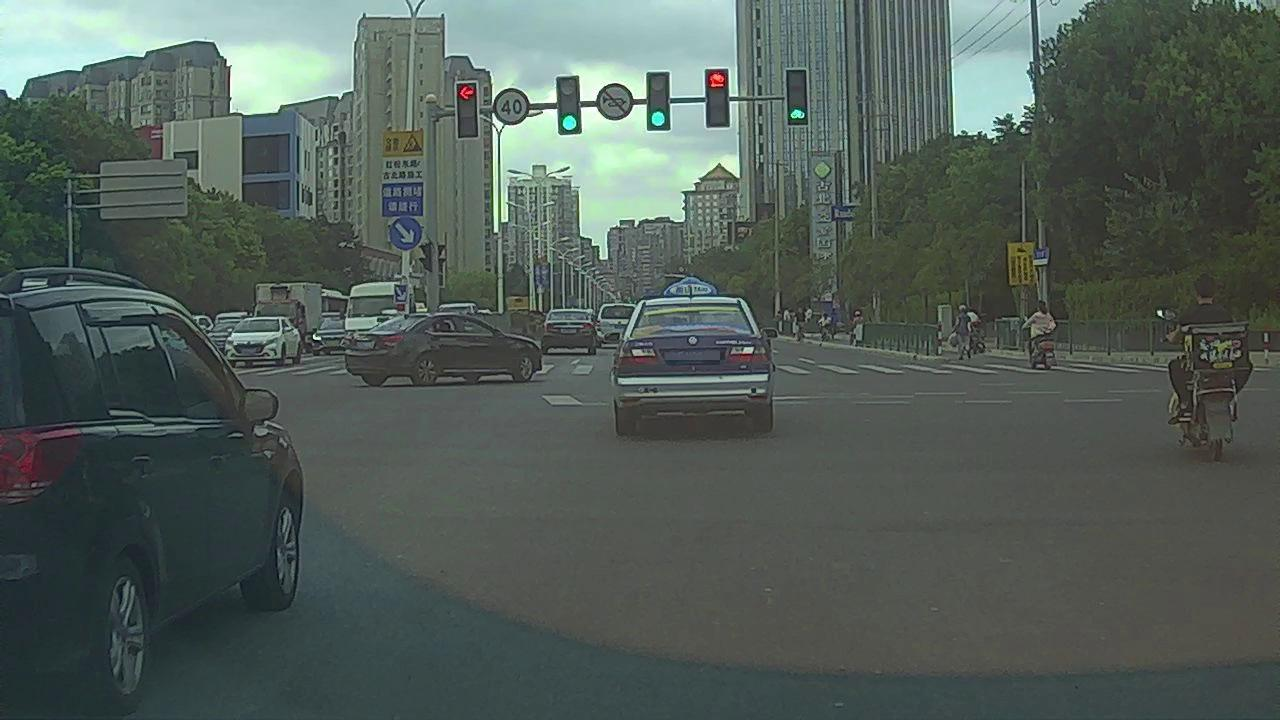traffic_light: (786, 68, 809, 126), (706, 71, 729, 128), (557, 78, 580, 133), (647, 73, 669, 130), (456, 83, 478, 138)
